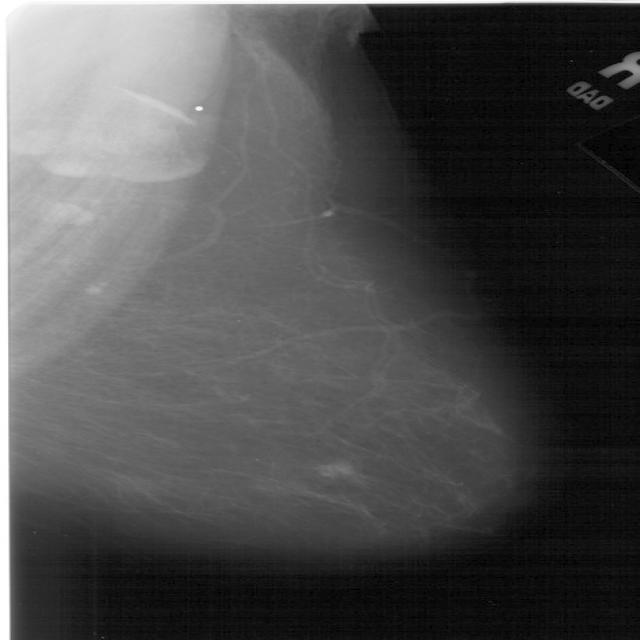tumour: (315, 461, 354, 478)
